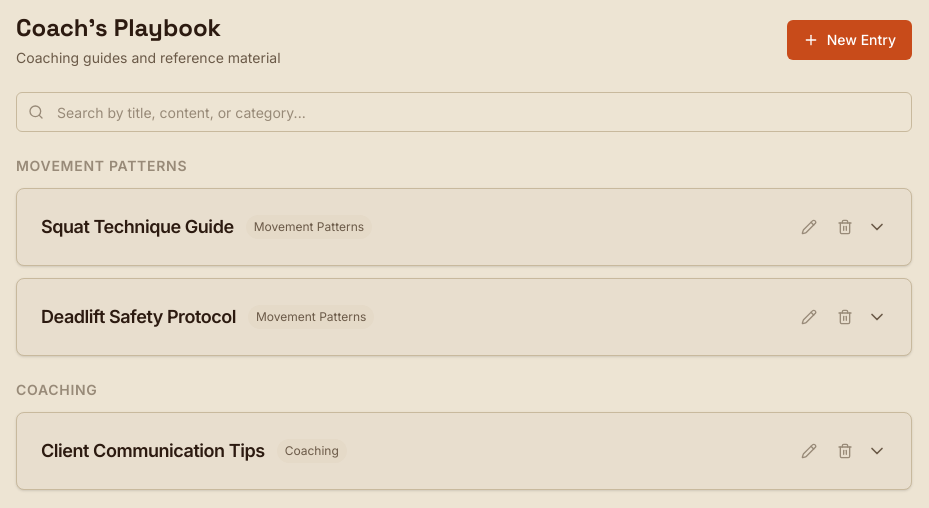
PlaybookPage › shows no results message when search has no matches
The width and height of the screenshot is (929, 508).
Check: the heading "Squat Technique Guide" is shown, box [41,213,234,241]
Type "nonexistent" into the field with placeholder "Search by title, content, or category..." at point(464, 112), box [16,92,912,132]
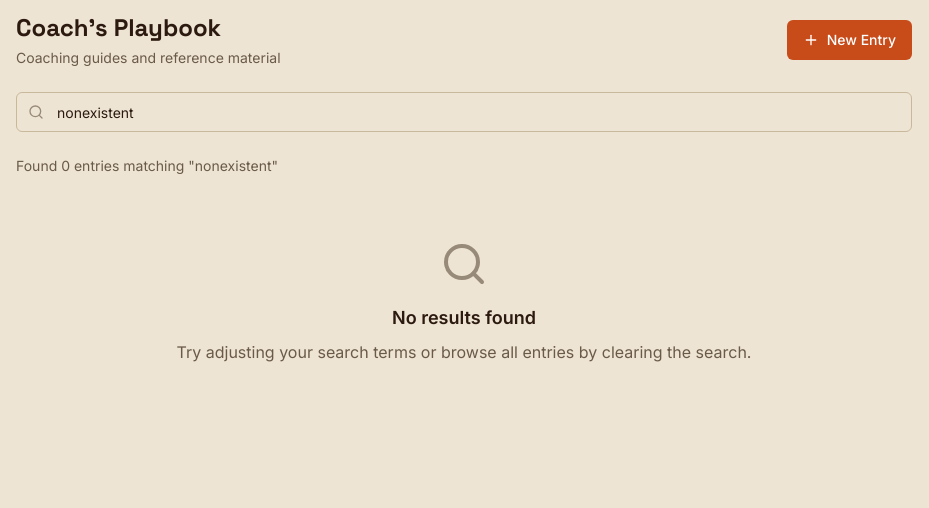
Check: the heading "No results found" is shown, box [392,307,536,328]
